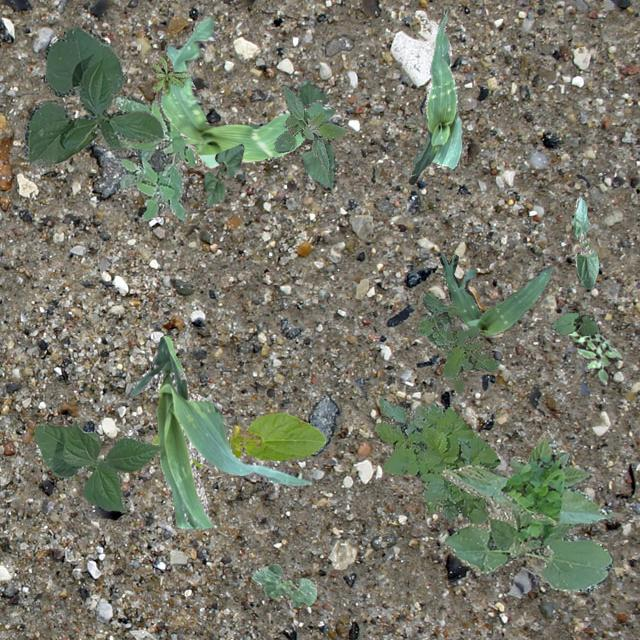crop: (130, 334, 310, 528), (440, 430, 612, 590), (160, 14, 334, 168), (24, 26, 162, 168), (32, 421, 160, 512), (408, 10, 462, 184), (438, 254, 552, 336), (150, 412, 324, 464), (296, 78, 336, 190), (250, 562, 316, 606), (202, 142, 242, 206), (572, 195, 598, 288), (548, 310, 598, 334)
weed: (374, 396, 499, 524), (111, 96, 196, 220), (417, 292, 498, 392), (274, 84, 346, 174), (504, 452, 564, 546), (568, 328, 622, 386), (150, 52, 190, 94)
